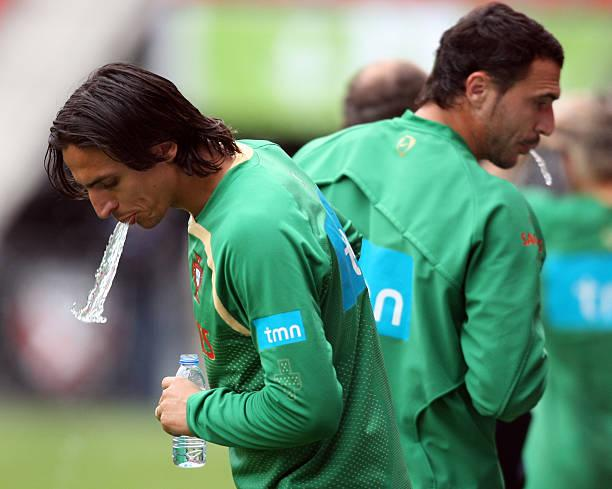Spitting: (49, 58, 221, 290), (427, 7, 601, 232)
